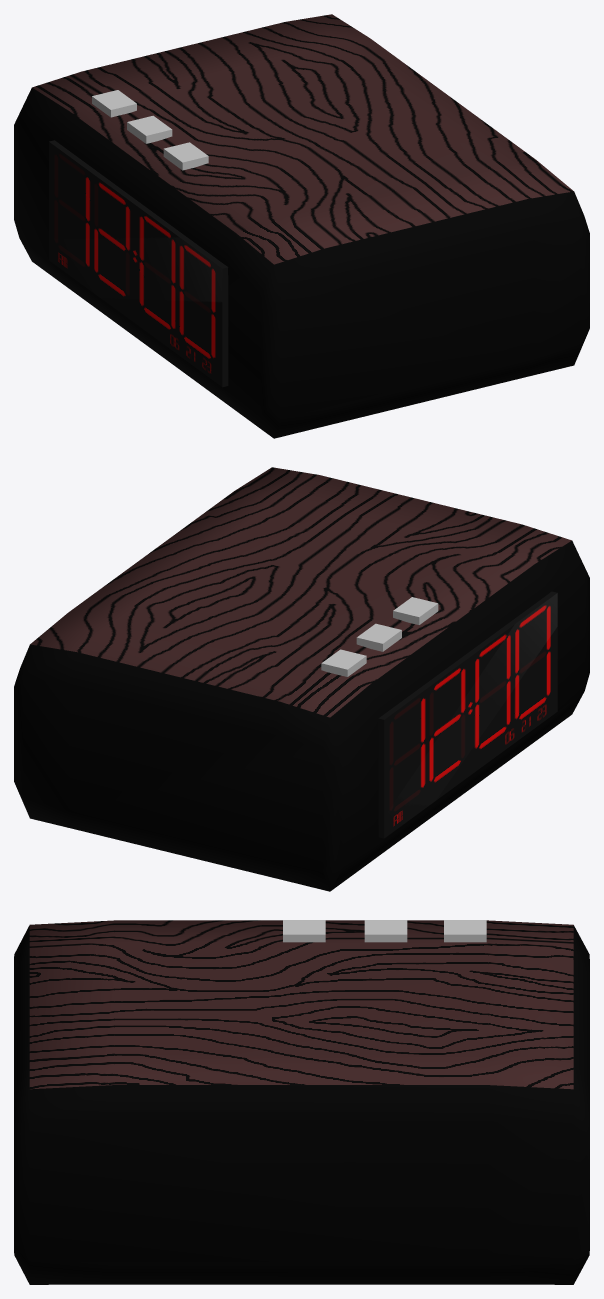
The model's file is AlarmClock.fbx.
The picture shows the model from 3 angles, top to bottom: view 1: azimuth 30°, elevation 25°; view 2: azimuth 150°, elevation 25°; view 3: azimuth 270°, elevation 25°; orthographic projection. The views are drawn at different scales.
Parts seen in each view (by area): view 1: Clock, Screen, Buttons; view 2: Clock, Screen, Buttons; view 3: Clock, Buttons.
Boxes of the visible parts, x1,y1,x2,y2 form: Clock: [14, 14, 589, 438]; Screen: [49, 140, 228, 387]; Buttons: [92, 90, 208, 170]; Clock: [14, 467, 589, 891]; Screen: [378, 591, 557, 838]; Buttons: [321, 597, 438, 676]; Clock: [14, 920, 589, 1284]; Buttons: [283, 920, 486, 942].
Bounding box in the file's own units: 100 × 54.99 × 136.
